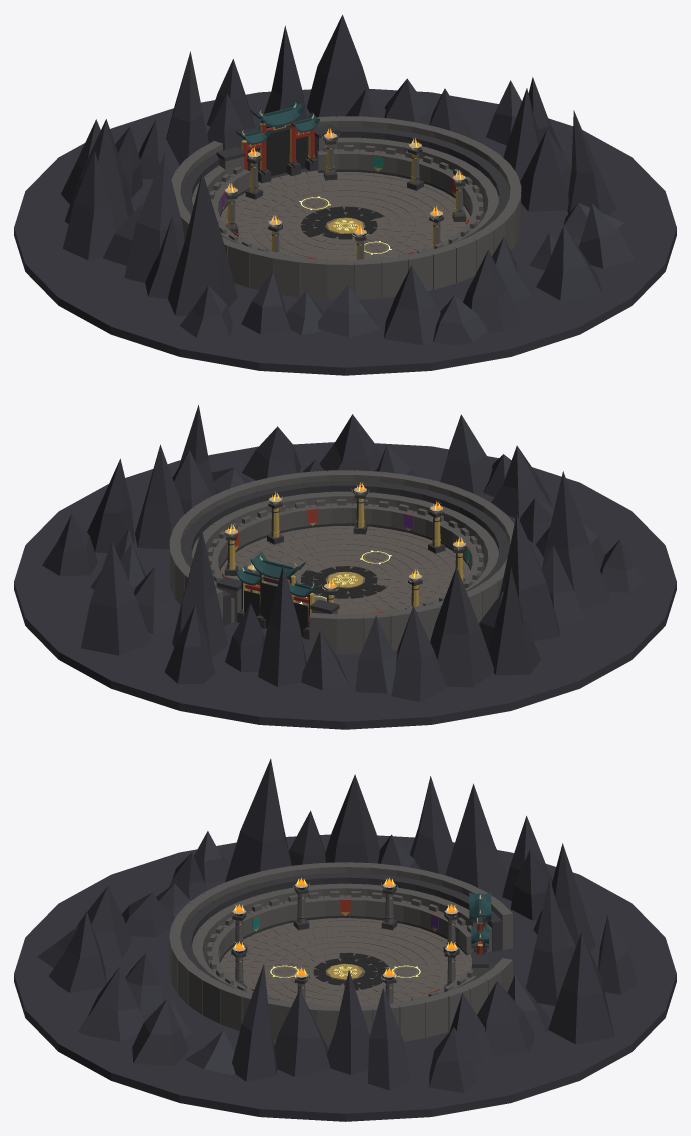
The model's file is arena.glb.
The picture shows the model from 3 angles, top to bottom: view 1: azimuth 30°, elevation 25°; view 2: azimuth 150°, elevation 25°; view 3: azimuth 270°, elevation 25°; orthographic projection.
Visible parts, largest first — view 1: Arena_Cliffs, Arena_Stands, Arena_Floor, Arena_Wall, Arena_Gate, Arena_Pillars; view 2: Arena_Cliffs, Arena_Stands, Arena_Floor, Arena_Wall, Arena_Gate, Arena_Pillars; view 3: Arena_Cliffs, Arena_Stands, Arena_Floor, Arena_Wall, Arena_Pillars, Arena_Gate.
Boxes of the visible parts, bbox=[...] form: Arena_Cliffs: bbox=[14, 15, 676, 375]; Arena_Stands: bbox=[171, 116, 521, 299]; Arena_Floor: bbox=[220, 170, 470, 260]; Arena_Wall: bbox=[209, 145, 483, 260]; Arena_Gate: bbox=[216, 98, 339, 183]; Arena_Pillars: bbox=[225, 133, 466, 259]; Arena_Cliffs: bbox=[14, 405, 676, 729]; Arena_Stands: bbox=[169, 470, 514, 653]; Arena_Floor: bbox=[220, 525, 470, 621]; Arena_Wall: bbox=[208, 499, 483, 614]; Arena_Gate: bbox=[216, 551, 339, 639]; Arena_Pillars: bbox=[224, 487, 465, 606]; Arena_Cliffs: bbox=[14, 758, 676, 1121]; Arena_Stands: bbox=[169, 862, 512, 1045]; Arena_Floor: bbox=[220, 918, 471, 1006]; Arena_Wall: bbox=[207, 891, 475, 1006]; Arena_Pillars: bbox=[231, 883, 459, 1003]; Arena_Gate: bbox=[469, 892, 491, 976].
Size of the model in its own units: 60 by 13.84 by 60.
